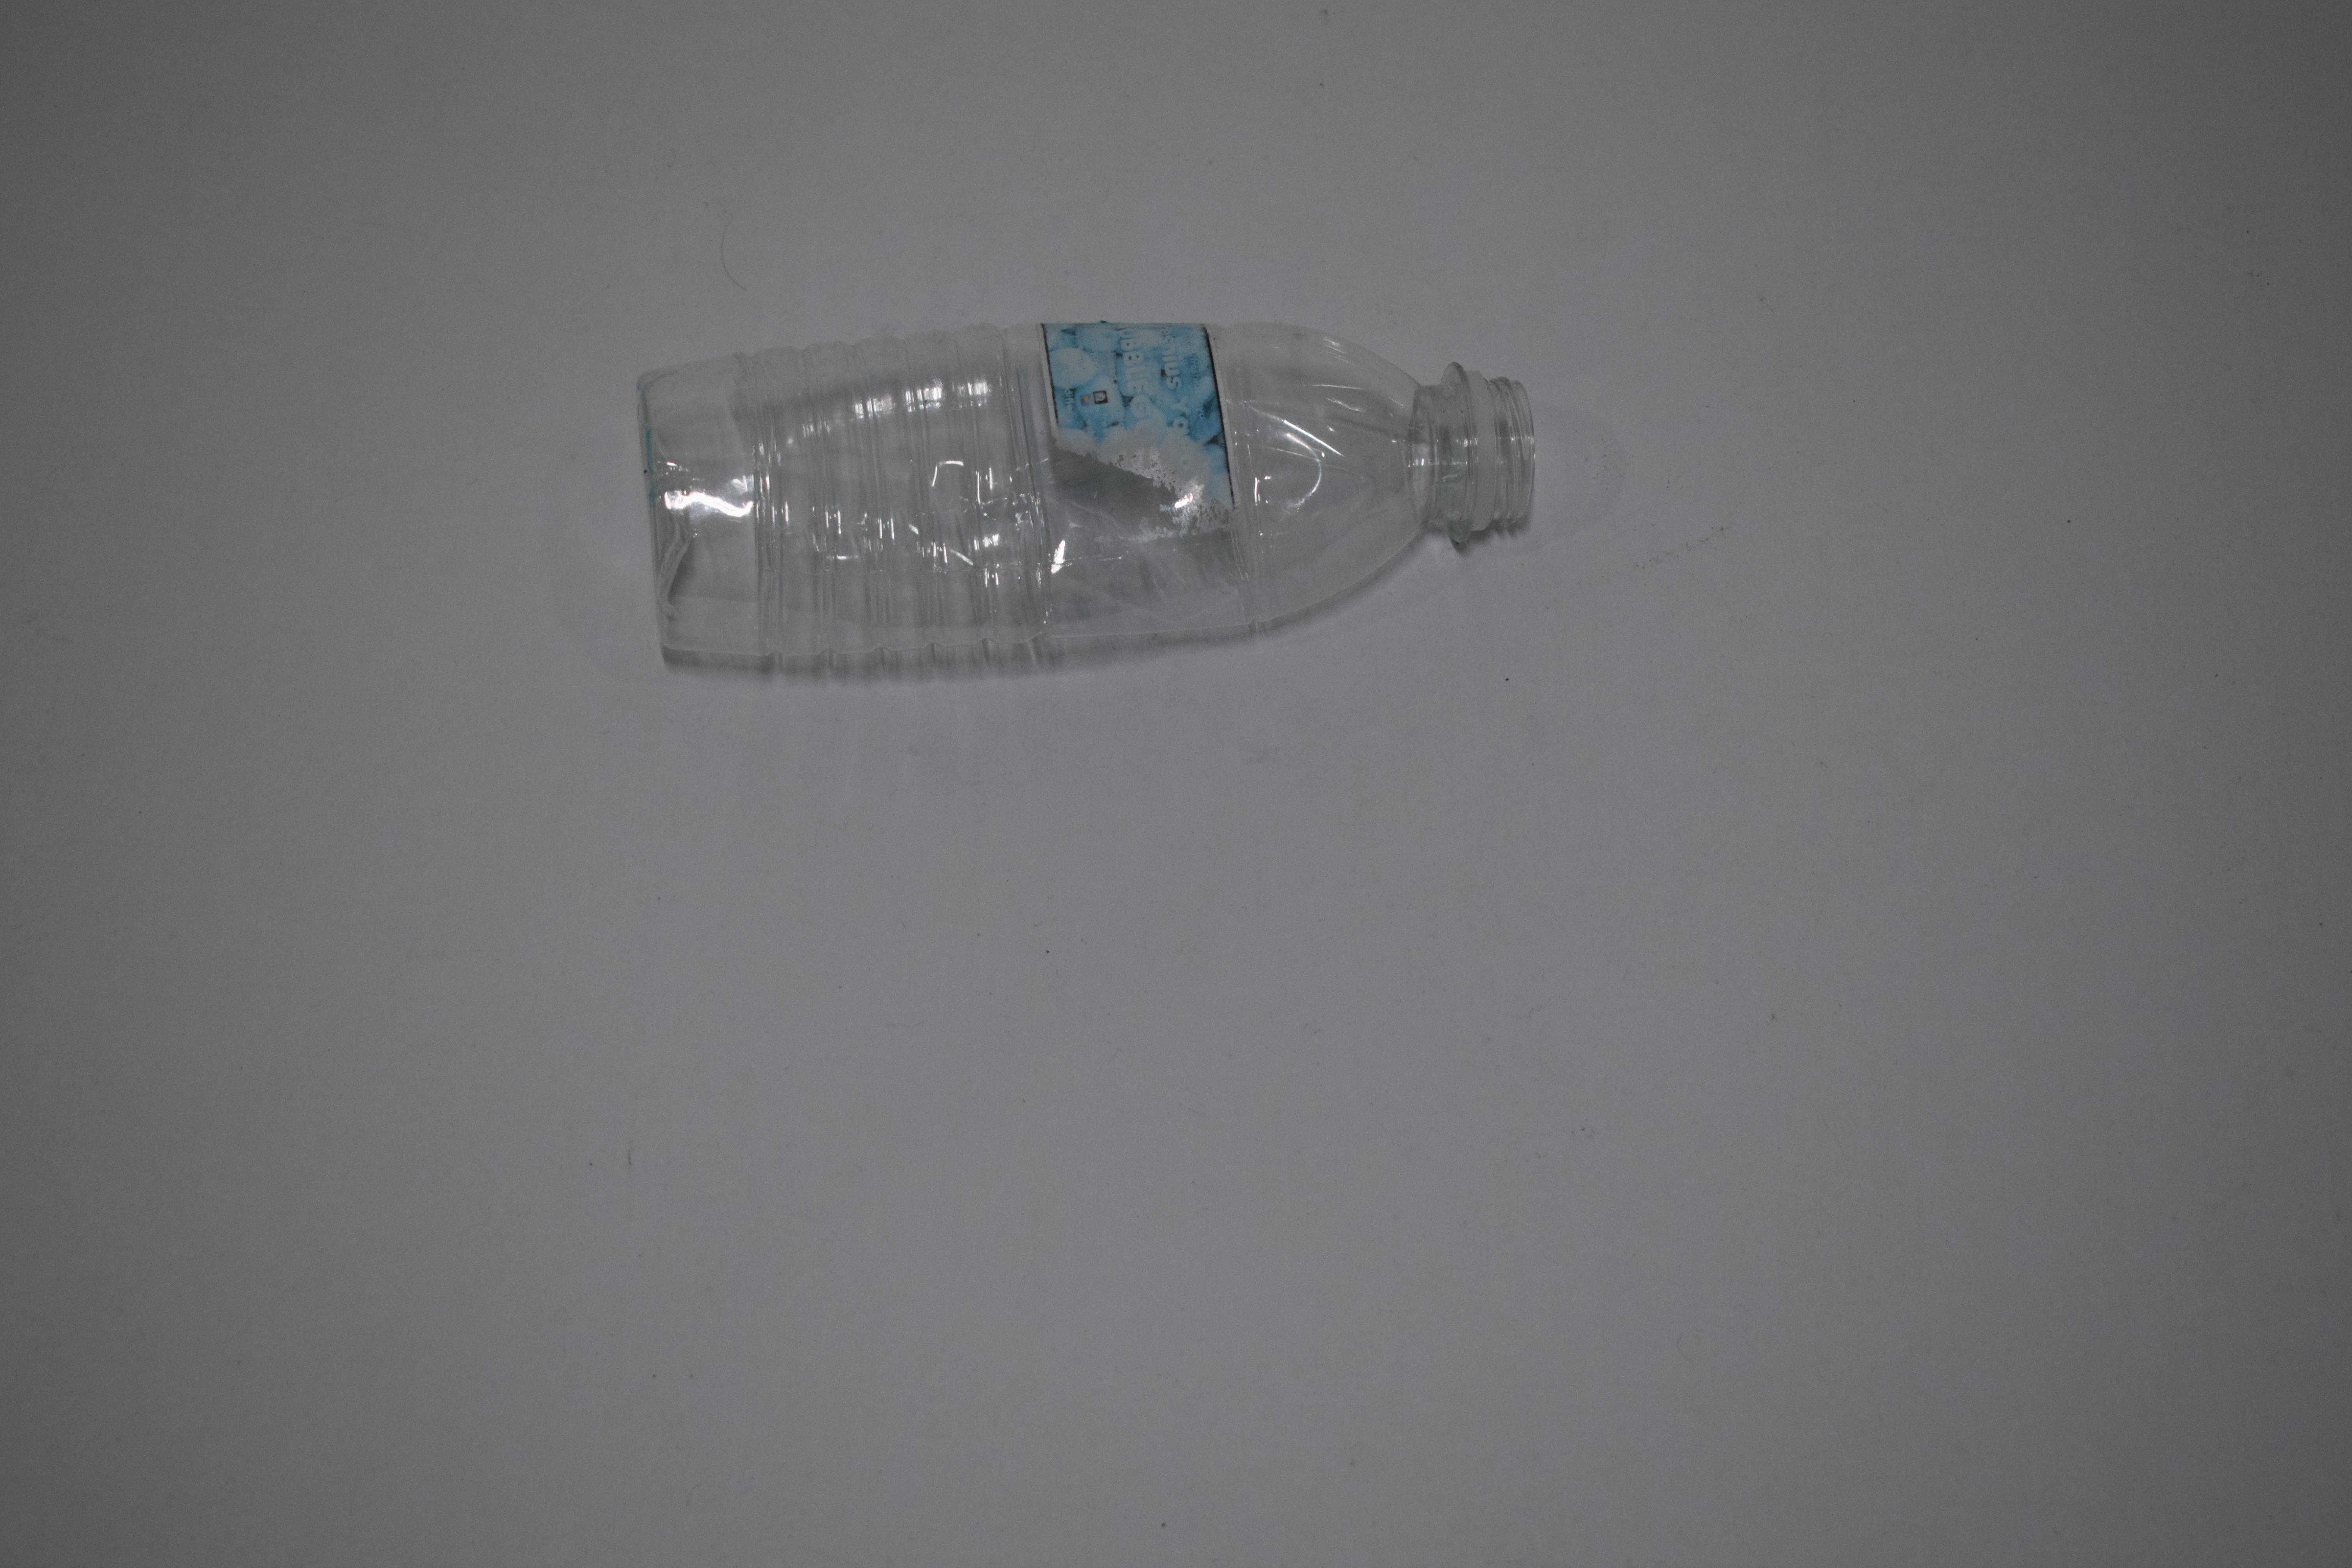bottle: (509, 306, 1410, 686)
